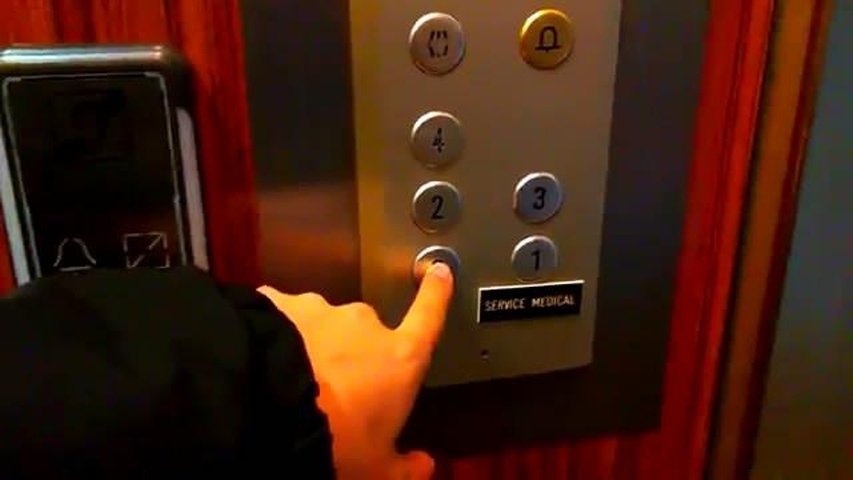1: (508, 234, 566, 291)
2: (409, 177, 465, 242)
3: (508, 171, 566, 228)
4: (405, 105, 470, 174)
alarm: (518, 5, 581, 75), (39, 228, 107, 283)
open: (405, 9, 468, 79)
